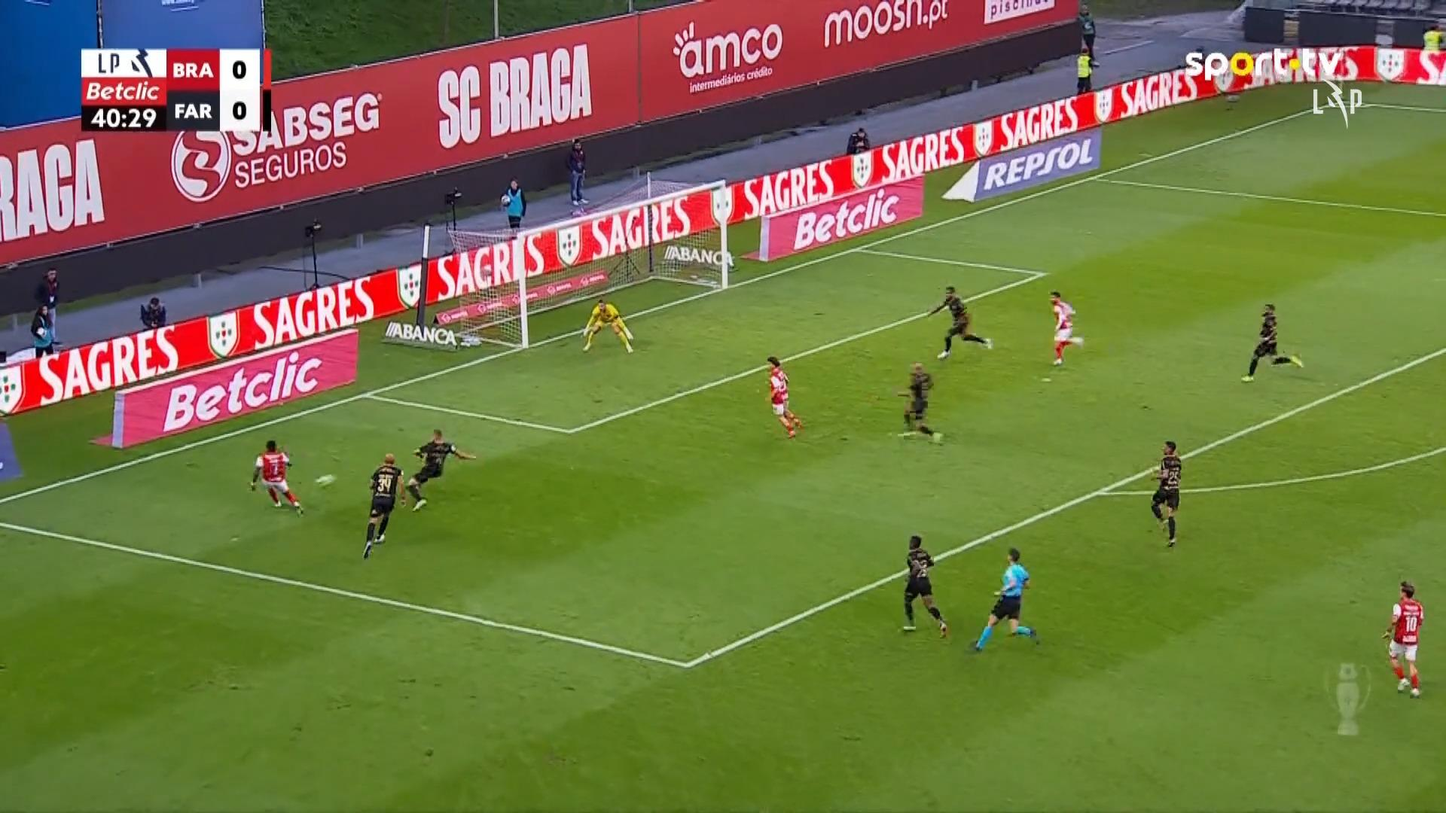ball: (315, 473, 335, 487)
goalkeeper: (580, 297, 633, 354)
player: (404, 428, 477, 511), (1240, 302, 1304, 382), (900, 534, 948, 638), (1382, 580, 1424, 698), (927, 285, 993, 360), (362, 452, 406, 559), (249, 439, 304, 516), (896, 361, 944, 445), (1149, 440, 1182, 547), (764, 355, 802, 438), (1048, 289, 1084, 366)
referee: (969, 547, 1039, 653)
